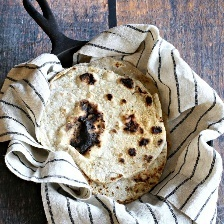roti: (42, 52, 172, 205)
